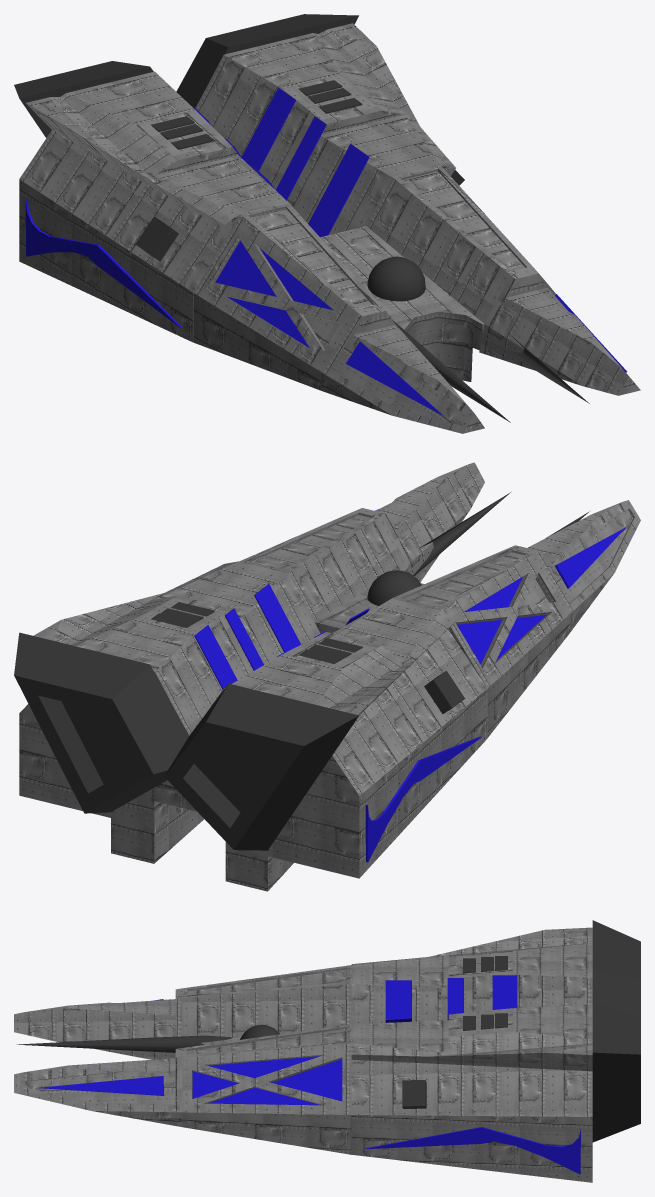
The model's file is Player_Ship.fbx.
3 renders of one model, top to bottom at view 1: azimuth 30°, elevation 25°; view 2: azimuth 150°, elevation 25°; view 3: azimuth 270°, elevation 25°, orthographic. The views are drawn at different scales.
Parts seen in each view (by area): view 1: Solid_Subtraction, Solid_Subtraction_2, Solid_Subtraction_4, Solid_Subtraction_3, Shell, Extrude_15, Extrude_16, Hemisphere, Extrude_18, Extrude_9, Extrude_26, Extrude_17 (+5 smaller); view 2: Solid_Subtraction, Shell, Solid_Subtraction_2, Solid_Subtraction_4, Solid_Subtraction_3, Extrude_15, Extrude_16, Hemisphere, Extrude_9, Extrude_18, Extrude_26, Cone_2 (+4 smaller); view 3: Solid_Subtraction, Solid_Subtraction_2, Shell, Solid_Subtraction_4, Solid_Subtraction_3, Extrude_11, Cone, Extrude_21, Extrude_10, Extrude_12, Extrude_20, Extrude_22 (+4 smaller).
Part boxes in pixels (x1=…): Solid_Subtraction: x1=19, y1=23, x2=455, y2=342; Solid_Subtraction_2: x1=193, y1=165, x2=534, y2=390; Solid_Subtraction_4: x1=479, y1=269, x2=640, y2=395; Solid_Subtraction_3: x1=321, y1=306, x2=484, y2=433; Shell: x1=14, y1=14, x2=358, y2=137; Extrude_15: x1=25, y1=198, x2=182, y2=328; Extrude_16: x1=308, y1=144, x2=369, y2=237; Hemisphere: x1=367, y1=256, x2=425, y2=301; Extrude_18: x1=242, y1=87, x2=296, y2=171; Extrude_9: x1=345, y1=341, x2=444, y2=416; Extrude_26: x1=215, y1=240, x2=276, y2=296; Extrude_17: x1=276, y1=116, x2=326, y2=200; Solid_Subtraction: x1=19, y1=561, x2=487, y2=891; Shell: x1=14, y1=632, x2=359, y2=850; Solid_Subtraction_2: x1=240, y1=510, x2=570, y2=737; Solid_Subtraction_4: x1=358, y1=462, x2=484, y2=582; Solid_Subtraction_3: x1=511, y1=500, x2=640, y2=631; Extrude_15: x1=365, y1=736, x2=481, y2=862; Extrude_16: x1=254, y1=584, x2=300, y2=652; Hemisphere: x1=367, y1=570, x2=421, y2=605; Extrude_9: x1=555, y1=527, x2=626, y2=588; Extrude_18: x1=194, y1=625, x2=237, y2=689; Extrude_26: x1=457, y1=620, x2=501, y2=664; Cone_2: x1=413, y1=492, x2=510, y2=575; Solid_Subtraction: x1=351, y1=927, x2=592, y2=1182; Solid_Subtraction_2: x1=182, y1=965, x2=351, y2=1154; Shell: x1=592, y1=920, x2=640, y2=1142; Solid_Subtraction_4: x1=14, y1=1048, x2=182, y2=1127; Solid_Subtraction_3: x1=14, y1=988, x2=182, y2=1059; Extrude_11: x1=365, y1=1127, x2=580, y2=1174; Cone: x1=17, y1=1035, x2=231, y2=1052; Extrude_21: x1=271, y1=1059, x2=342, y2=1101; Extrude_10: x1=38, y1=1076, x2=164, y2=1095; Extrude_12: x1=385, y1=980, x2=411, y2=1019; Extrude_20: x1=208, y1=1087, x2=320, y2=1105; Extrude_22: x1=207, y1=1056, x2=320, y2=1078.
Bounding box in the file's own units: 3987 × 2210 × 7925.
4 materials, 1 textured.
